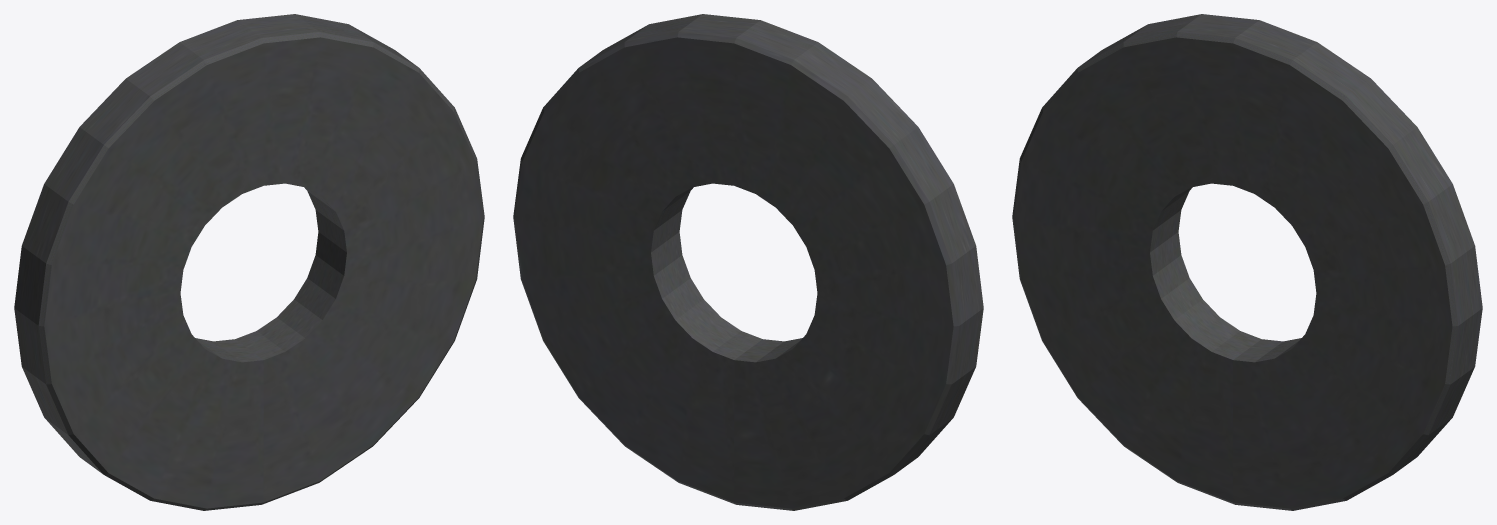
File: Washer.dae
3 views of the same model, side by side, from view 1: azimuth 30°, elevation 25°; view 2: azimuth 150°, elevation 25°; view 3: azimuth 330°, elevation 25° (orthographic).
Visible parts, largest first — view 1: Washer; view 2: Washer; view 3: Washer.
Boxes of the visible parts, box(x1,y1,x2,y2) form: Washer: box(14, 14, 484, 510); Washer: box(513, 14, 983, 510); Washer: box(1012, 14, 1482, 510).
Bounding box in the file's own units: 0.0155 × 0.00172 × 0.0155.
Materials: 1 (1 with a texture image).
